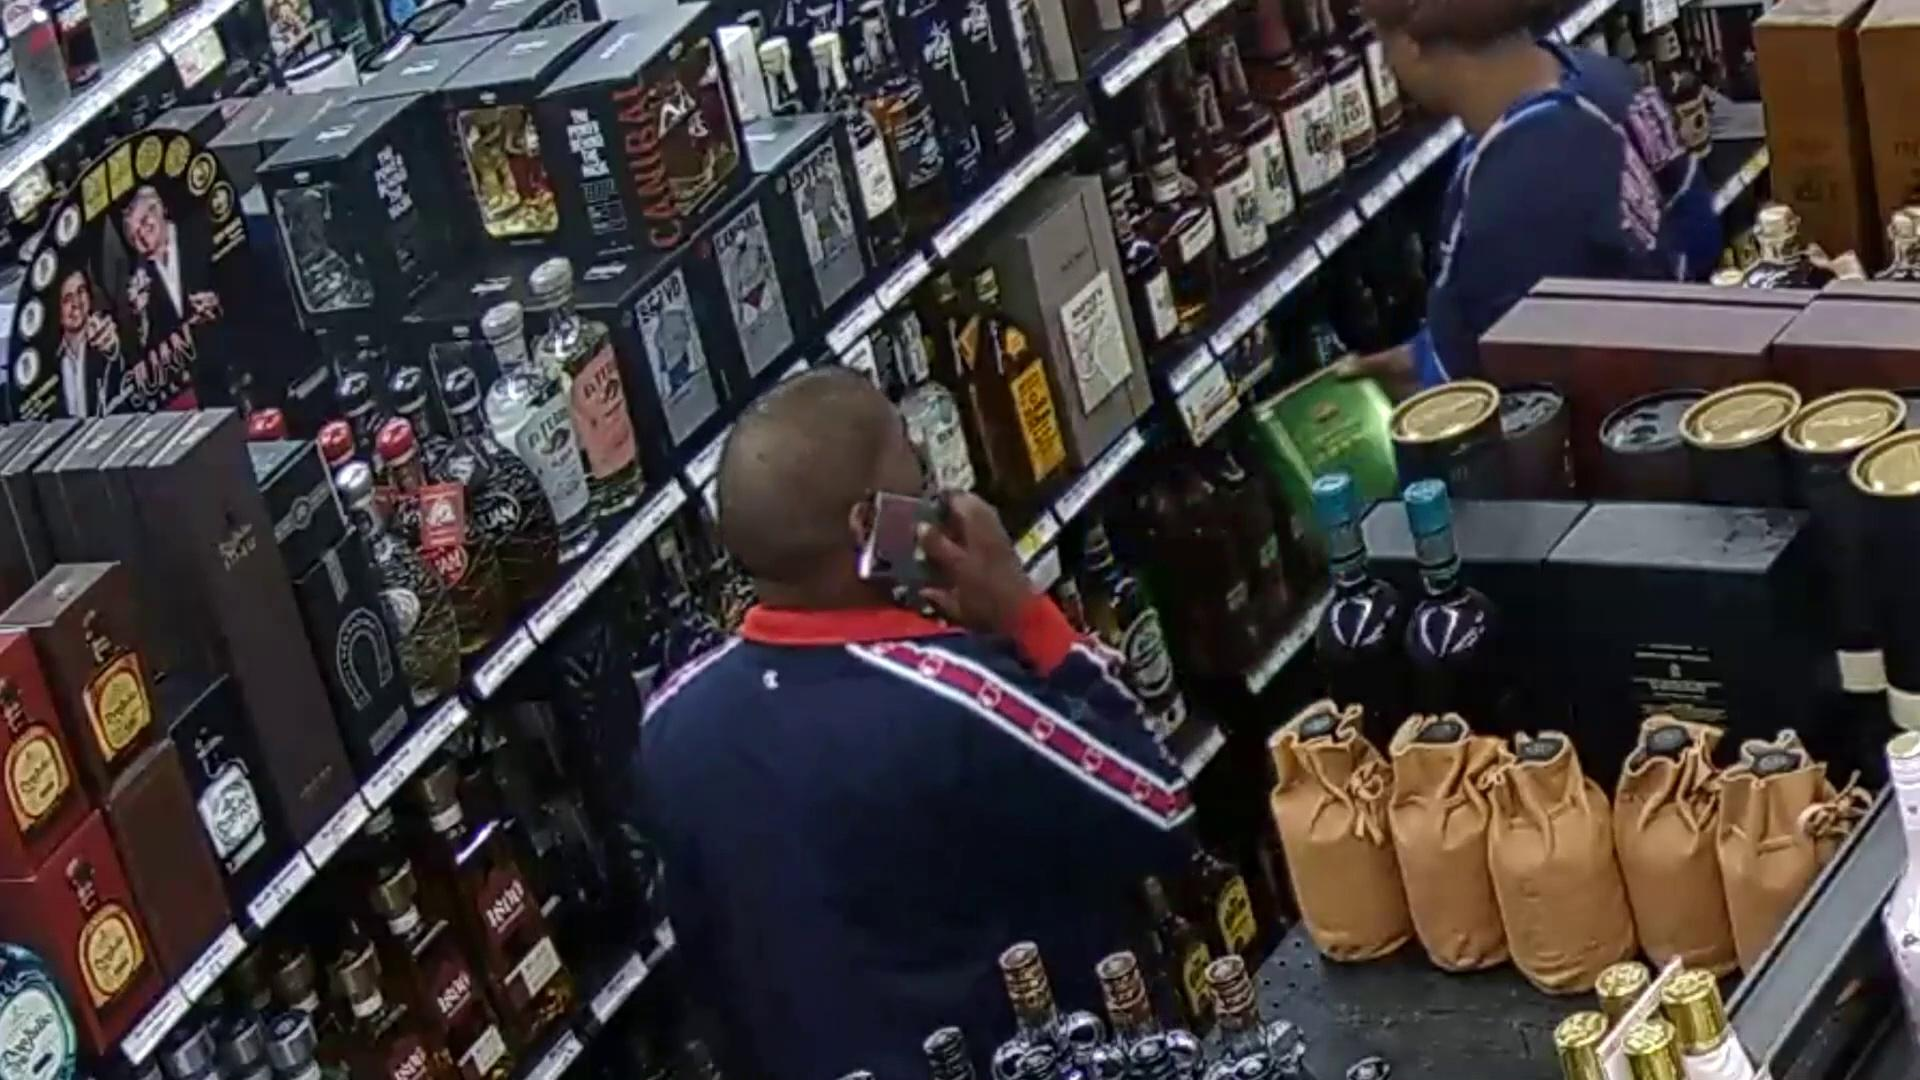Product: (1240, 353, 1406, 514)
Product-Picked: (1139, 0, 1759, 806)
Regular: (597, 372, 1200, 1080)
